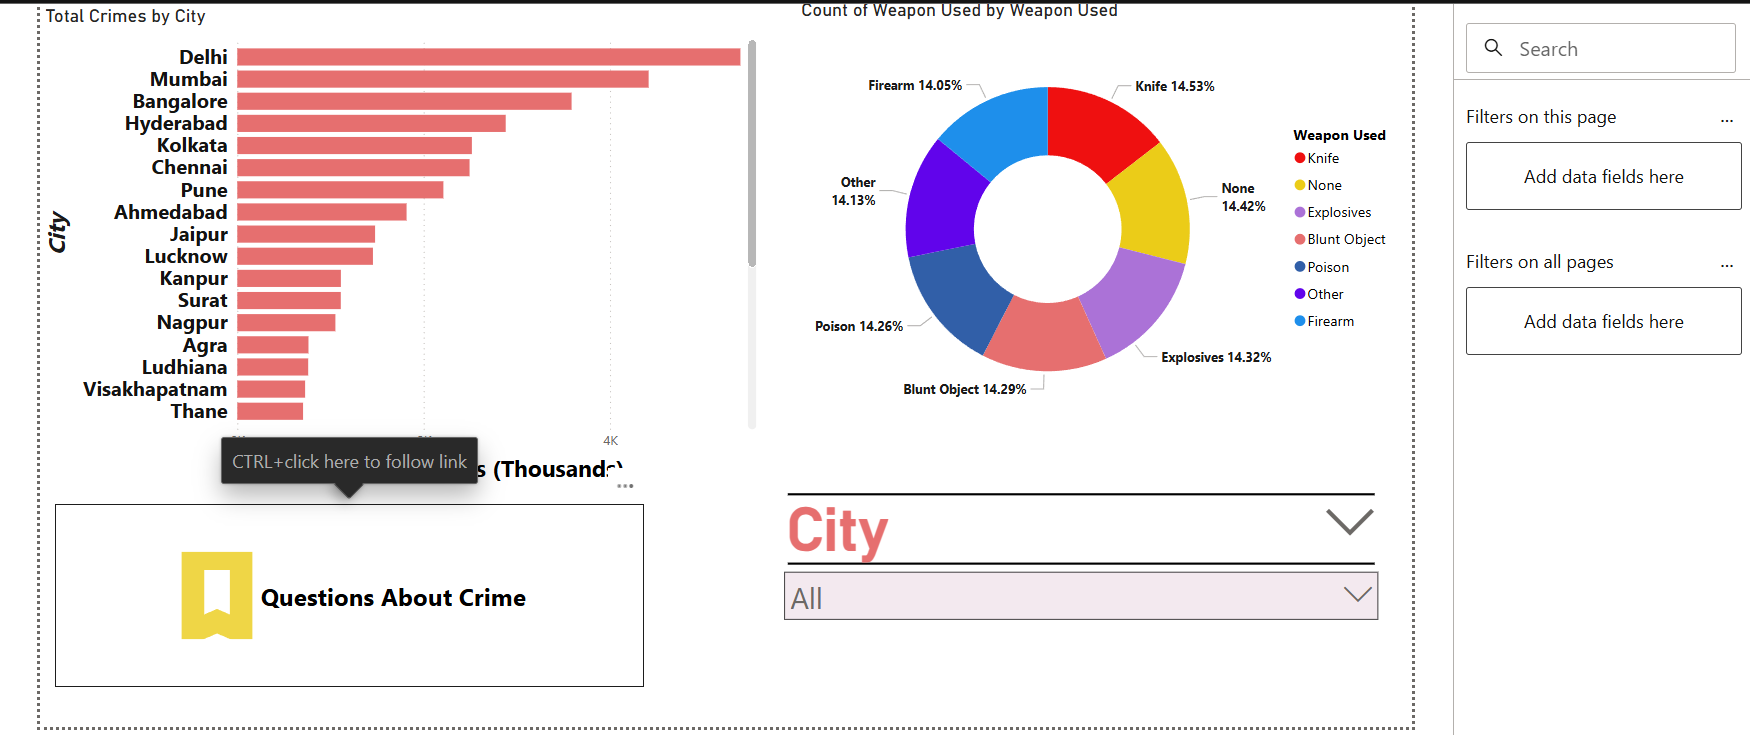

The page's visual inventory and layout, read from the dashboard file:
{"tool":"powerbi","page":{"name":"Page 2","canvas":[1280,720],"ordinal":1},"visuals":[{"type":"clusteredBarChart","fields":{"Y":["CountNonNull(cleaned_crime_dataset.Weapon Used)"],"Category":["cleaned_crime_dataset.City"]},"box":[0,46.2,672.9,450.5],"z":0},{"type":"actionButton","box":[14,512,549.8,170.7],"z":1000},{"type":"donutChart","fields":{"Category":["cleaned_crime_dataset.Weapon Used"],"Y":["CountNonNull(cleaned_crime_dataset.Weapon Used)"]},"box":[705.3,40.2,573.9,410.3],"z":2000},{"type":"slicer","fields":{"Values":["cleaned_crime_dataset.City"]},"box":[683.8,496.1,573.9,147.5],"z":3000}]}

Visuals, with their boxes on the page's 1280x720 design canvas (x1, y1, x2, y2). These are canvas units, not pixel positions in the 1750x735 screenshot, which may show the page scaled, cropped or inside an application window:
clusteredBarChart - CountNonNull(cleaned_crime_dataset.Weapon Used) x cleaned_crime_dataset.City: pyautogui.locateOnScreen(0, 46, 673, 497)
actionButton: pyautogui.locateOnScreen(14, 512, 564, 683)
donutChart - cleaned_crime_dataset.Weapon Used x CountNonNull(cleaned_crime_dataset.Weapon Used): pyautogui.locateOnScreen(705, 40, 1279, 450)
slicer - cleaned_crime_dataset.City: pyautogui.locateOnScreen(684, 496, 1258, 644)
